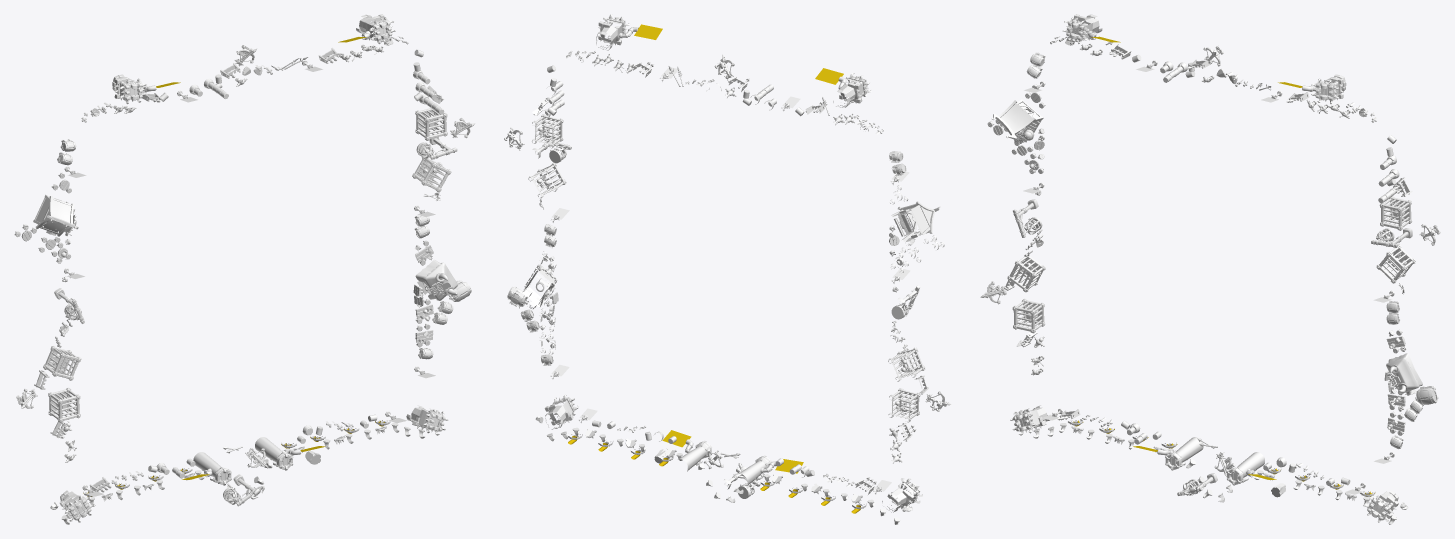
Rendered from bgr_mad_evil_manor_showdown.glb.
The picture shows the model from 3 angles, left to right: view 1: azimuth 30°, elevation 25°; view 2: azimuth 150°, elevation 25°; view 3: azimuth 330°, elevation 25°; orthographic projection. The views are drawn at different scales.
Parts seen in each view (by area): view 1: Cube.174, Cube.173, Cylinder.203, Cube.175, Cube.189, Cube.190, Cube.188, Cube.191; view 2: Cube.173, Cube.174, Cube.175, Cylinder.203, Cube.190, Cube.189, Cube.188, Cube.191, plane_flame.010; view 3: Cube.173, Cube.174, Cylinder.203, Cube.175, Cube.189, Cube.190, Cube.188, Cube.191, Cube.177.
Boxes of the visible parts, x1,y1,x2,y2 form: Cube.174: [59, 405, 448, 522]; Cube.173: [112, 14, 395, 104]; Cylinder.203: [193, 437, 293, 485]; Cube.175: [33, 194, 78, 236]; Cube.189: [48, 387, 80, 422]; Cube.190: [415, 108, 447, 140]; Cube.188: [43, 346, 81, 380]; Cube.191: [412, 156, 451, 192]; Cube.173: [596, 14, 871, 107]; Cube.174: [544, 394, 922, 512]; Cube.175: [891, 201, 940, 241]; Cylinder.203: [678, 440, 771, 485]; Cube.190: [532, 114, 563, 148]; Cube.189: [888, 388, 920, 422]; Cube.188: [888, 347, 925, 381]; Cube.191: [528, 162, 566, 198]; plane_flame.010: [634, 24, 843, 84]; Cube.173: [1062, 14, 1346, 103]; Cube.174: [1010, 405, 1398, 522]; Cylinder.203: [1165, 437, 1264, 485]; Cube.175: [991, 99, 1043, 143]; Cube.189: [1012, 298, 1045, 333]; Cube.190: [1379, 196, 1412, 230]; Cube.188: [1007, 253, 1045, 292]; Cube.191: [1376, 244, 1415, 283]; Cube.177: [1386, 357, 1419, 393].
Size of the model in its own units: 78.96 by 76.38 by 10.05.
